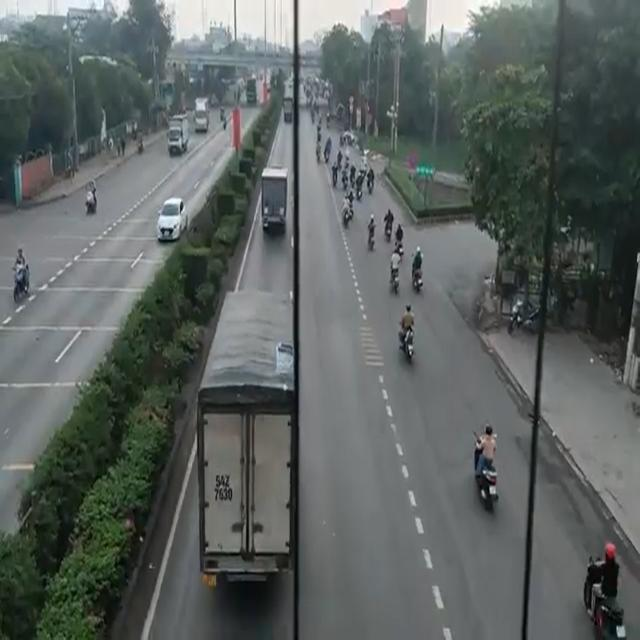car: (158, 188, 182, 244)
motor: (586, 552, 621, 635), (471, 437, 501, 518), (397, 307, 411, 369), (13, 252, 29, 304), (80, 184, 99, 215), (388, 253, 400, 294), (412, 253, 423, 296), (394, 216, 405, 254), (367, 220, 377, 257), (386, 208, 394, 240)
truck: (202, 291, 286, 600), (258, 161, 288, 240), (167, 109, 186, 160), (192, 96, 208, 137)
